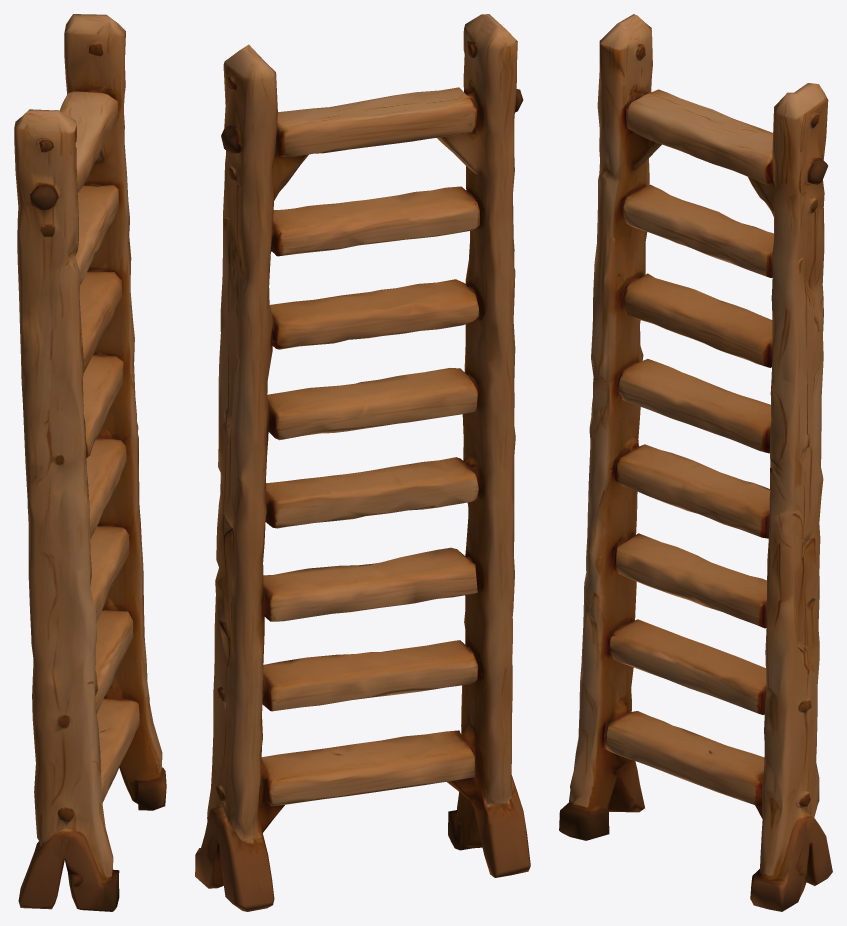
Rendered from ladder.glb.
The picture shows the model from 3 angles, left to right: view 1: azimuth 30°, elevation 25°; view 2: azimuth 150°, elevation 25°; view 3: azimuth 270°, elevation 25°; orthographic projection. The views are drawn at different scales.
Parts seen in each view (by area): view 1: tripo_node_ca2e8954-aaf9-4614-969f-0b81d994a635; view 2: tripo_node_ca2e8954-aaf9-4614-969f-0b81d994a635; view 3: tripo_node_ca2e8954-aaf9-4614-969f-0b81d994a635.
Boxes of the visible parts, x1,y1,x2,y2 form: tripo_node_ca2e8954-aaf9-4614-969f-0b81d994a635: [14, 14, 166, 911]; tripo_node_ca2e8954-aaf9-4614-969f-0b81d994a635: [195, 14, 530, 911]; tripo_node_ca2e8954-aaf9-4614-969f-0b81d994a635: [559, 14, 832, 911].
Size of the model in its own units: 0.3031 by 1 by 0.3121.
1 material, 1 textured.
